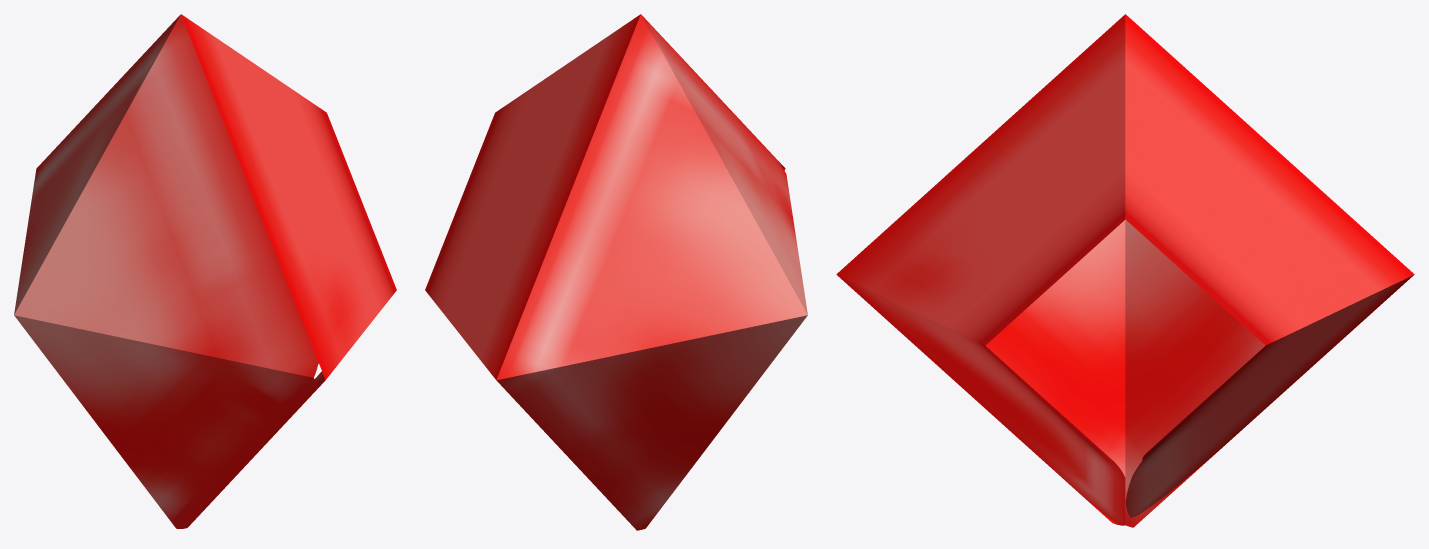
File: xiaodeng.FBX
3 renders of one model, left to right at view 1: azimuth 30°, elevation 25°; view 2: azimuth 150°, elevation 25°; view 3: azimuth 270°, elevation 25°, orthographic.
Parts seen in each view (by area): view 1: Object002; view 2: Object002; view 3: Object002.
Part boxes in pixels (left/top/right/bottom): Object002: left=14, top=14, right=396, bottom=528; Object002: left=425, top=14, right=807, bottom=530; Object002: left=836, top=14, right=1414, bottom=527.
Size of the model in its own units: 0.4139 by 0.6586 by 0.6628.
